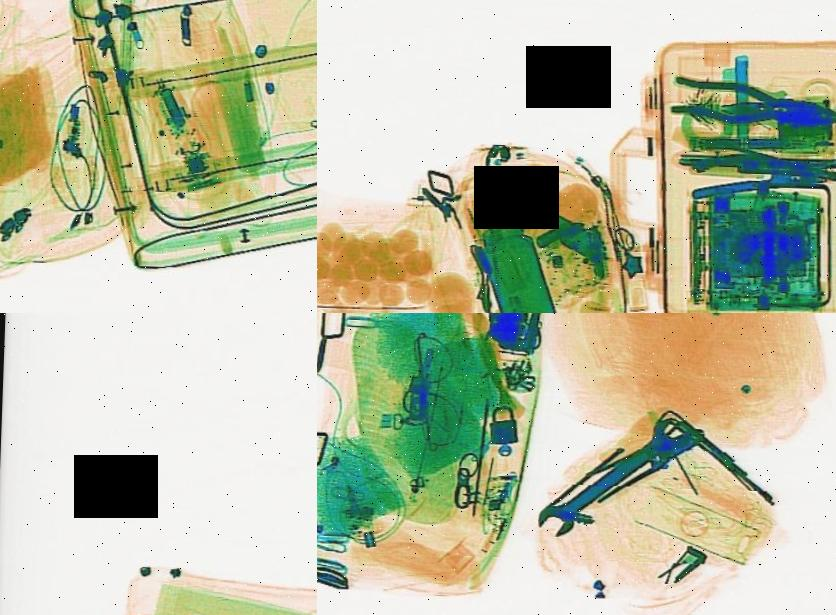Pliers: (662, 68, 836, 136)
Wrench: (526, 406, 696, 546)
